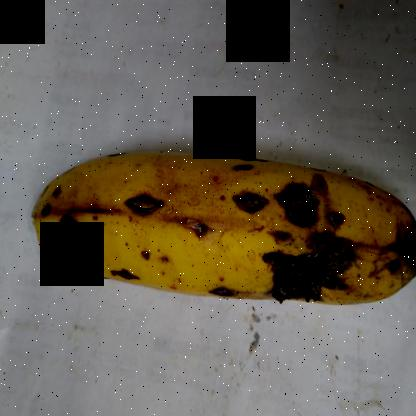rotten: (248, 229, 348, 319), (272, 165, 352, 248), (218, 164, 284, 249), (46, 188, 108, 263), (377, 221, 415, 322), (167, 214, 235, 270), (119, 178, 162, 224), (109, 260, 147, 308), (205, 279, 243, 325)
